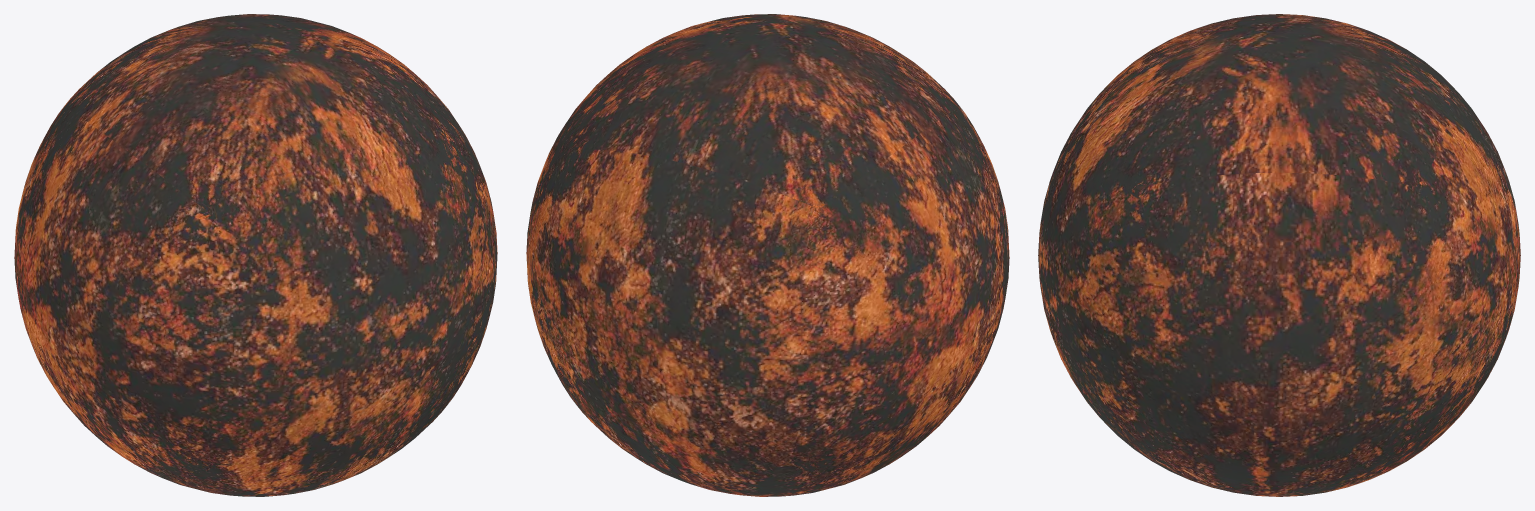
The model's file is 55_Cancri_e_1_24364-transformed.glb.
3 views of the same model, side by side, from view 1: azimuth 30°, elevation 25°; view 2: azimuth 150°, elevation 25°; view 3: azimuth 270°, elevation 25° (orthographic).
Visible parts, largest first — view 1: Cube.008; view 2: Cube.008; view 3: Cube.008.
Boxes of the visible parts, x1,y1,x2,y2 form: Cube.008: [14, 14, 497, 496]; Cube.008: [526, 14, 1009, 496]; Cube.008: [1038, 14, 1520, 496].
Size of the model in its own units: 1000 by 1000 by 1000.
Materials: 1 (1 with a texture image).
